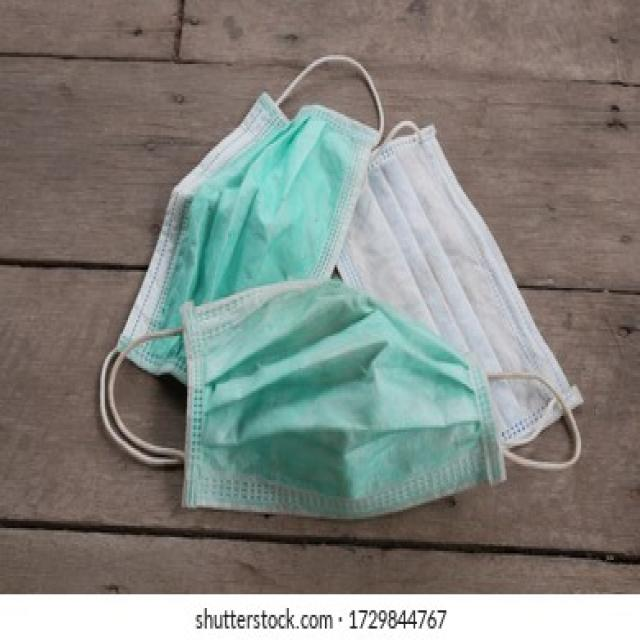non-organic waste: (98, 36, 598, 452), (117, 286, 589, 512)
